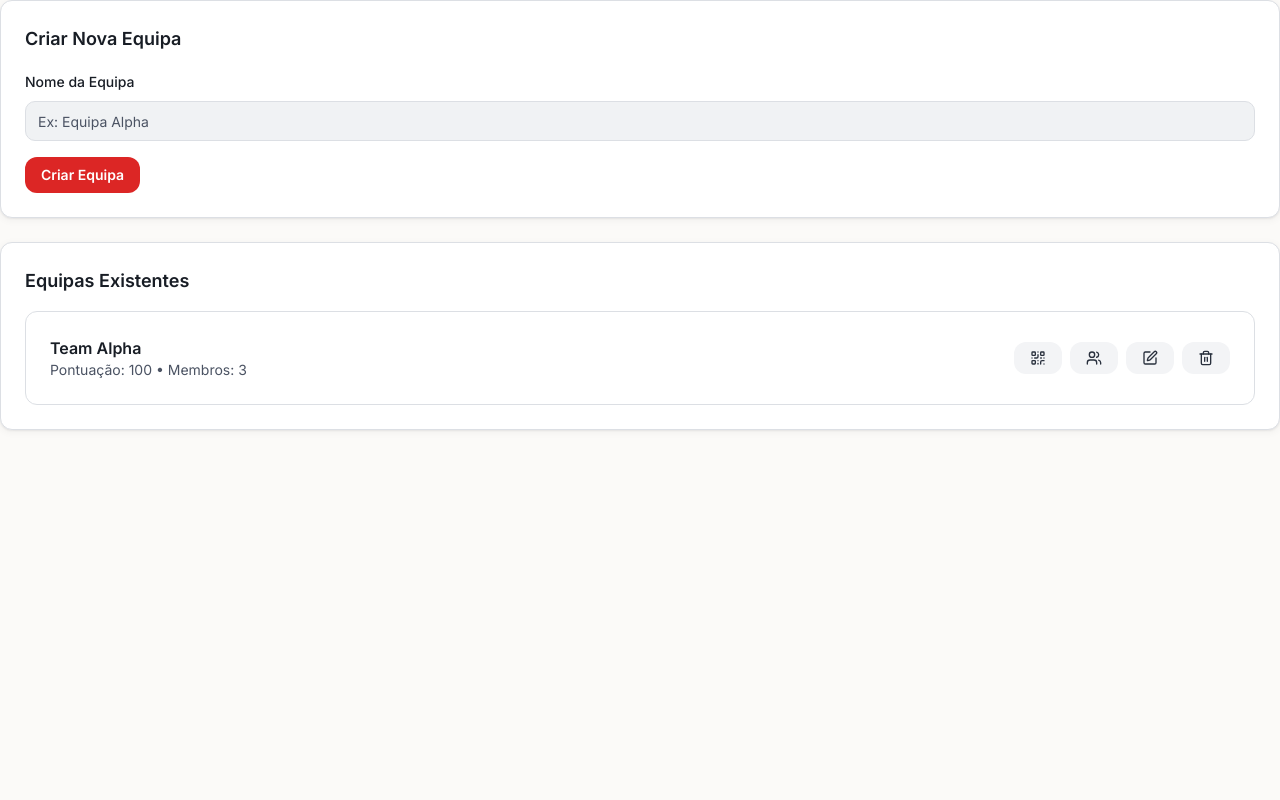
Scenario: TeamManagement › cancels edit mode
This screenshot has width=1280, height=800.
Expected: the text "Team Alpha" is shown, [50,338,141,358]
Click the button named "Editar equipa Team Alpha".
click(1150, 358)  # box [1126,342,1174,374]
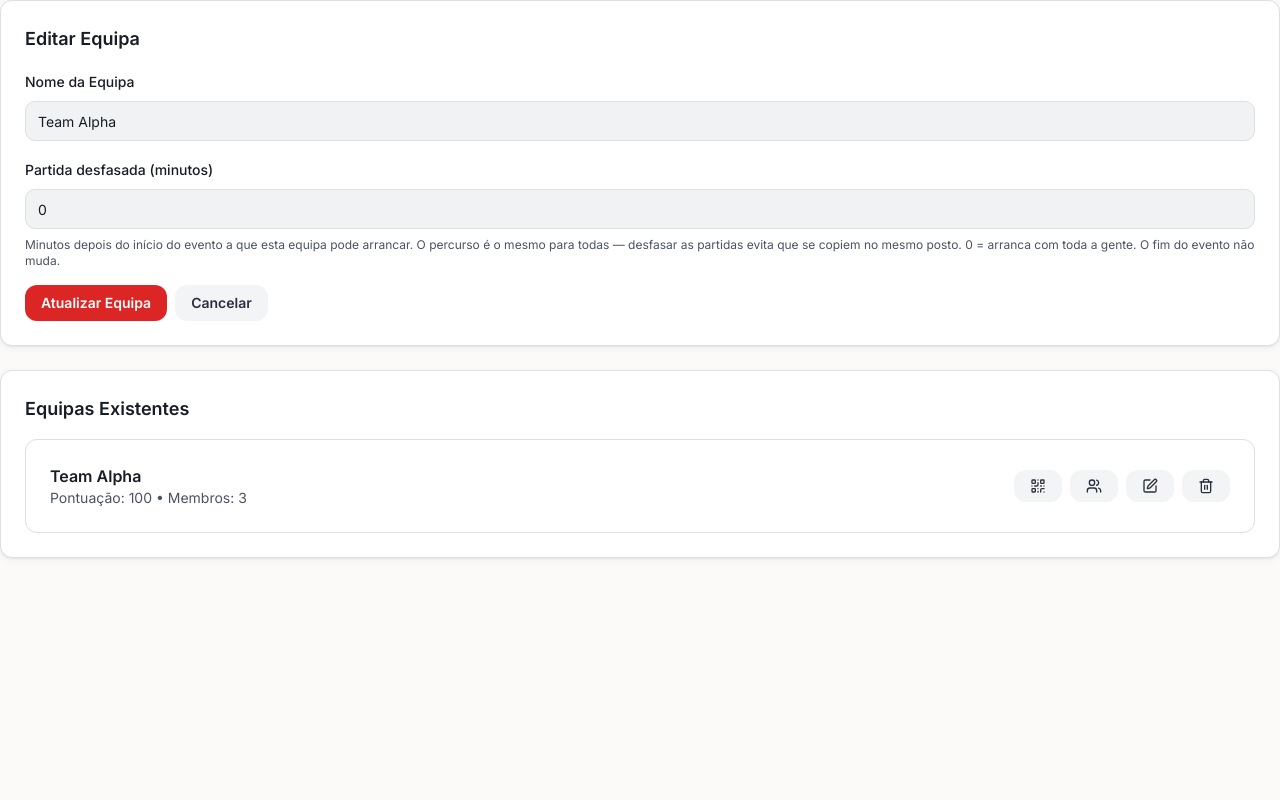
Expected: the heading "Editar Equipa" is shown, [25,28,140,49]
Click the button "Cancelar".
click(221, 303)  # box [175,285,268,321]
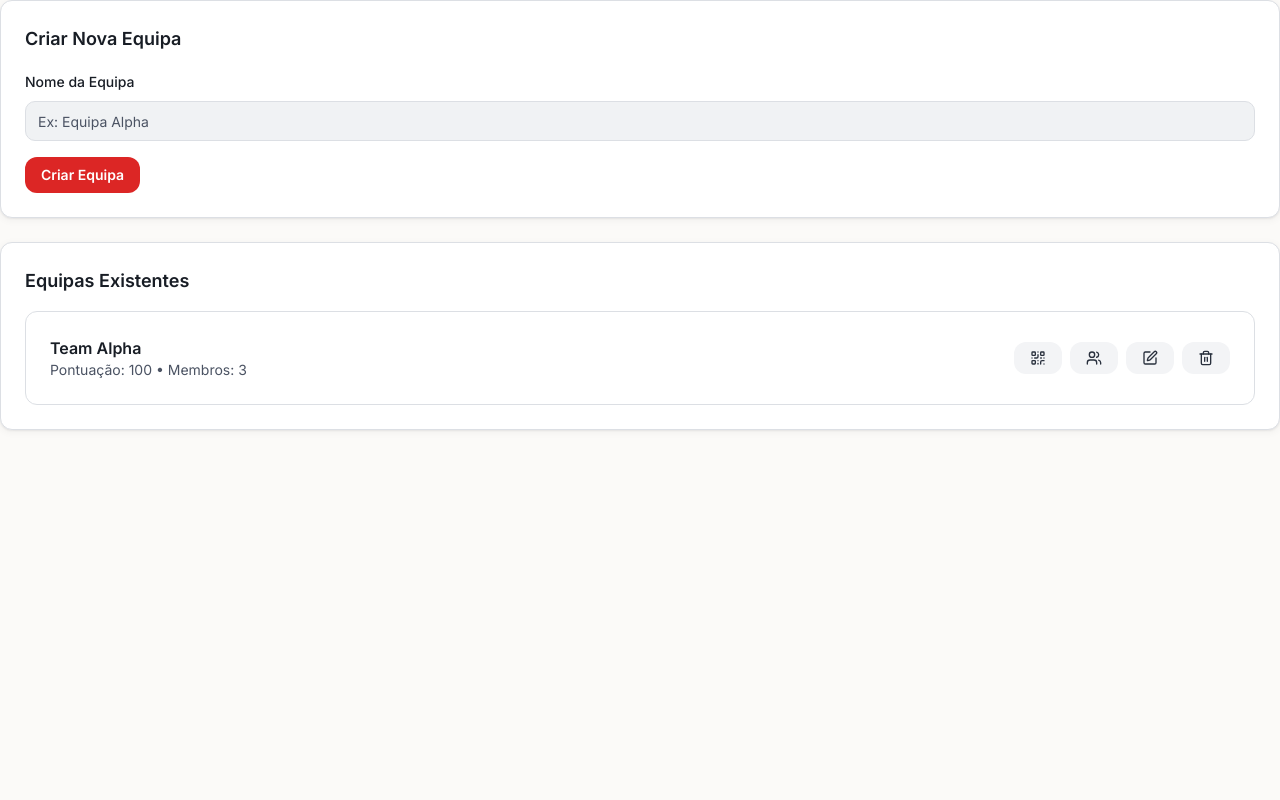
Expected: the heading "Criar Nova Equipa" is shown, [25,28,182,49]
